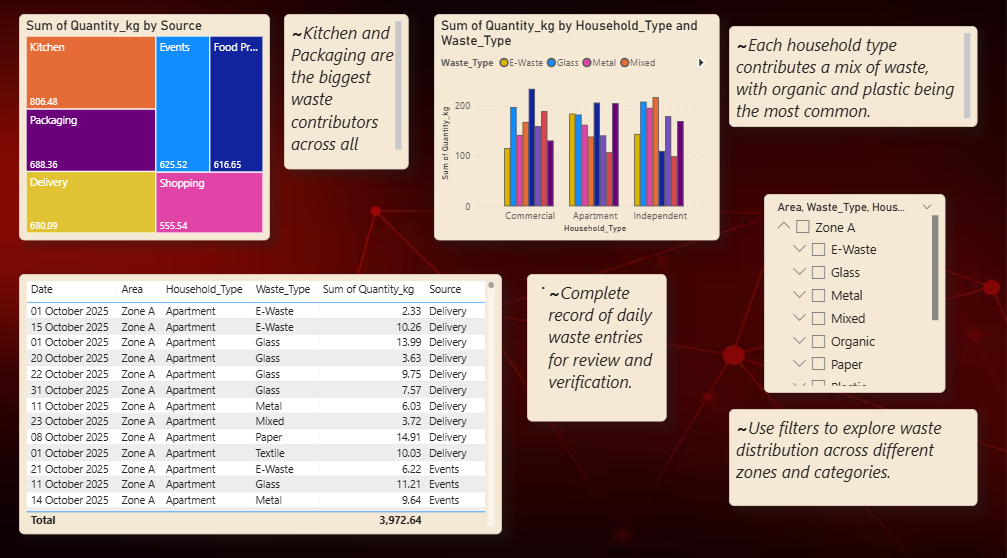

This screenshot's page, from the dashboard's own definition file:
{"tool":"powerbi","page":{"name":"Page 2","canvas":[1280,720],"ordinal":1},"visuals":[{"type":"treemap","fields":{"Values":["Sum(WasteData.Quantity_kg)"],"Details":["WasteData.Source"]},"box":[28.3,30,318.3,286.7],"z":0},{"type":"tableEx","fields":{"Values":["WasteData.Date","WasteData.Area","WasteData.Household_Type","WasteData.Waste_Type","Sum(WasteData.Quantity_kg)","WasteData.Source"]},"box":[28.3,360,611.7,330],"z":1000},{"type":"slicer","fields":{"Values":["WasteData.Area","WasteData.Waste_Type","WasteData.Household_Type","WasteData.Source"]},"box":[971.7,258.3,230,251.7],"z":2000},{"type":"clusteredColumnChart","fields":{"Category":["WasteData.Household_Type"],"Y":["Sum(WasteData.Quantity_kg)"],"Series":["WasteData.Waste_Type"]},"box":[553.3,30,361.7,286.7],"z":3000},{"type":"textbox","box":[363.3,30,158.3,196.7],"z":4000},{"type":"textbox","box":[928.3,45,315,128.3],"z":5000},{"type":"textbox","box":[671.7,360,176.7,186.7],"z":6000},{"type":"textbox","box":[928.3,531.7,315,123.3],"z":7000}]}

Visuals, with their boxes in screenshot pixels (x1, y1, x2, y2), scaled from the page's 1280x720 canvas onto the 1007x558 screenshot:
treemap - Sum(WasteData.Quantity_kg) x WasteData.Source: (22, 23, 273, 245)
tableEx - WasteData.Date x WasteData.Area: (22, 279, 504, 535)
slicer - WasteData.Area x WasteData.Waste_Type: (764, 200, 945, 395)
clusteredColumnChart - WasteData.Household_Type x Sum(WasteData.Quantity_kg): (435, 23, 720, 245)
textbox: (286, 23, 410, 176)
textbox: (730, 35, 978, 134)
textbox: (528, 279, 667, 424)
textbox: (730, 412, 978, 508)
